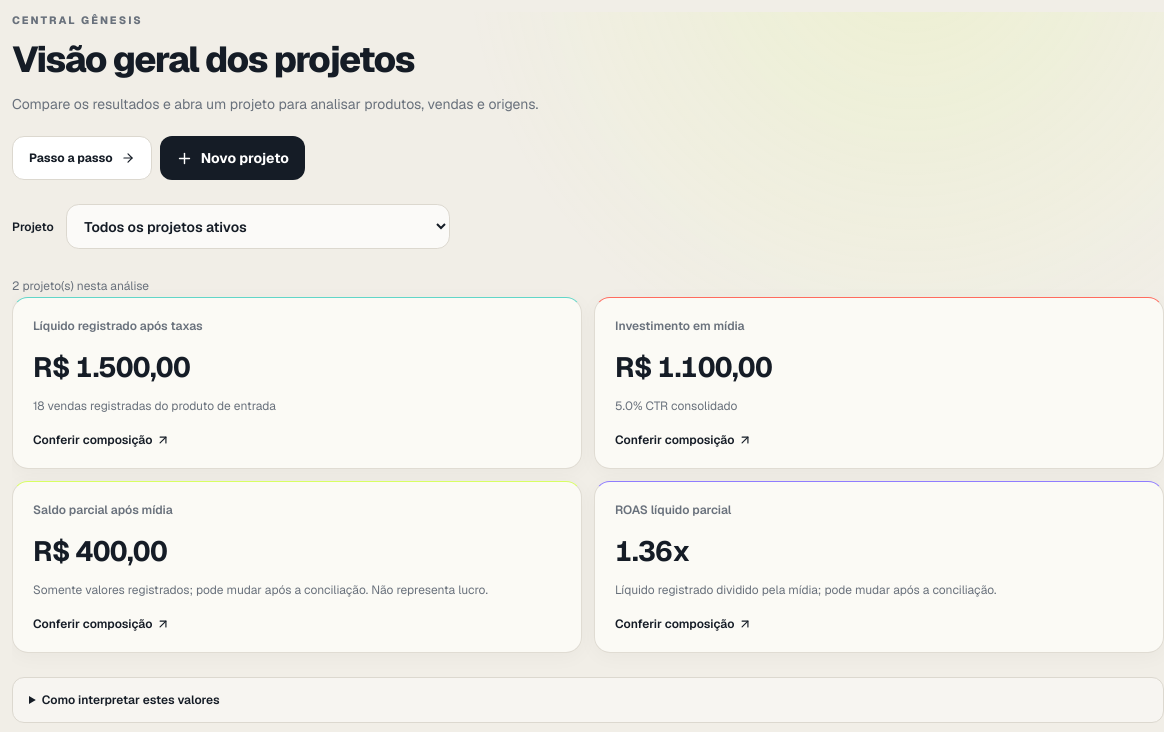
Scenario: overview financial integrity › marks the combined result as partial and updates it when switching projects
Check: the text "R$ 400,00" is shown, box [33,533,167,569]
Check: the text "1.36x" is shown, box [615,533,690,569]
Step 1. Select "Projeto pendente" in the dropdown named "Projeto na visão geral" → x=258, y=227, box [66,204,450,249]
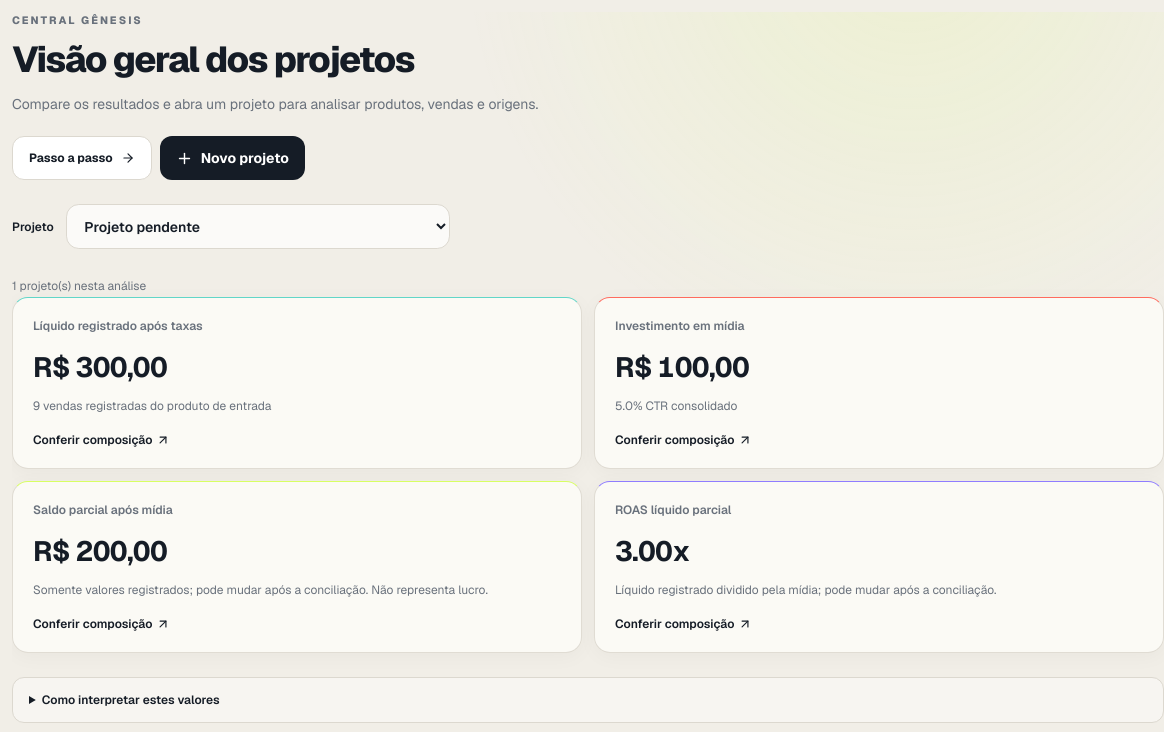
Check: the text "3.00x" is shown, box [615,533,690,569]
Step 2. Select "Projeto completo" in the dropdown named "Projeto na visão geral" → x=258, y=227, box [66,204,450,249]
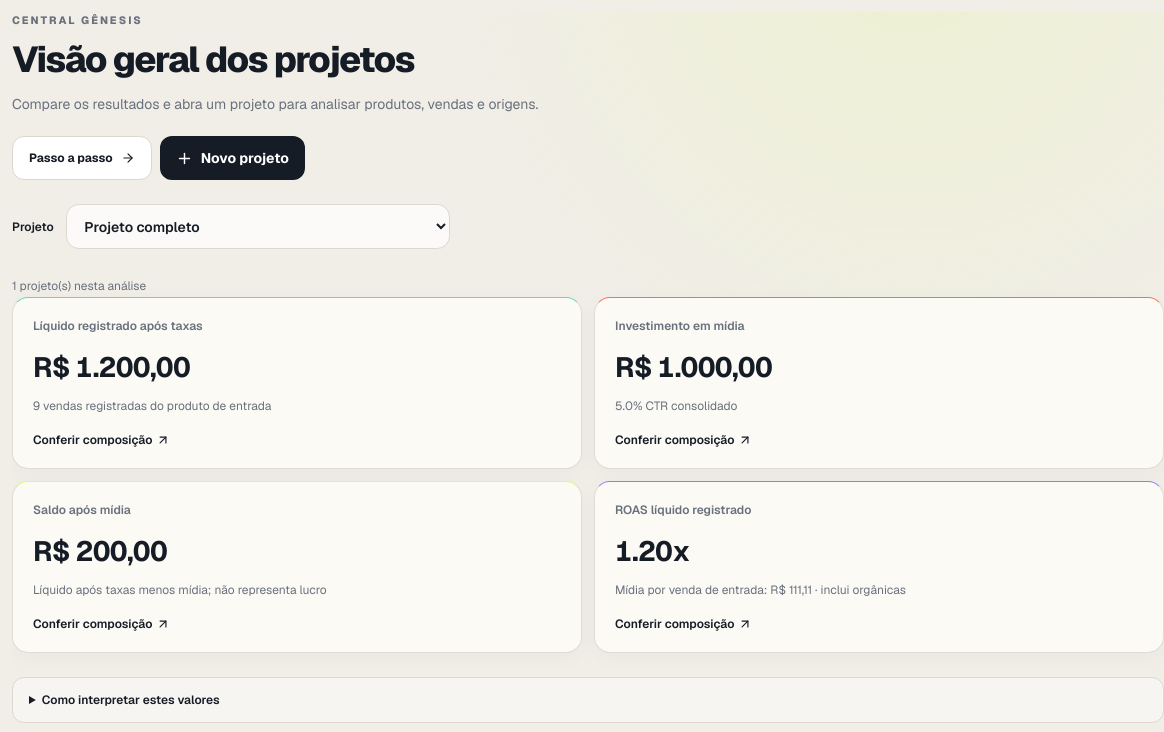
Check: the text "1.20x" is shown, box [615,533,690,569]
Check: the heading "Saldo parcial após mídia" is gone
